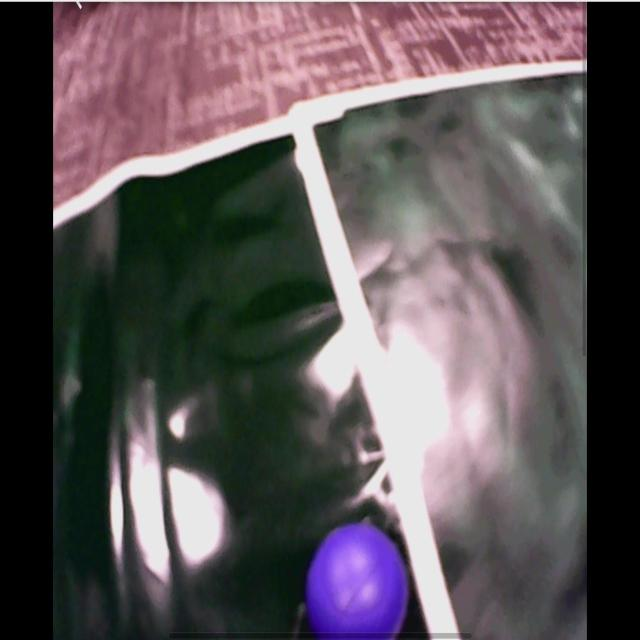ball: (307, 523, 409, 636)
